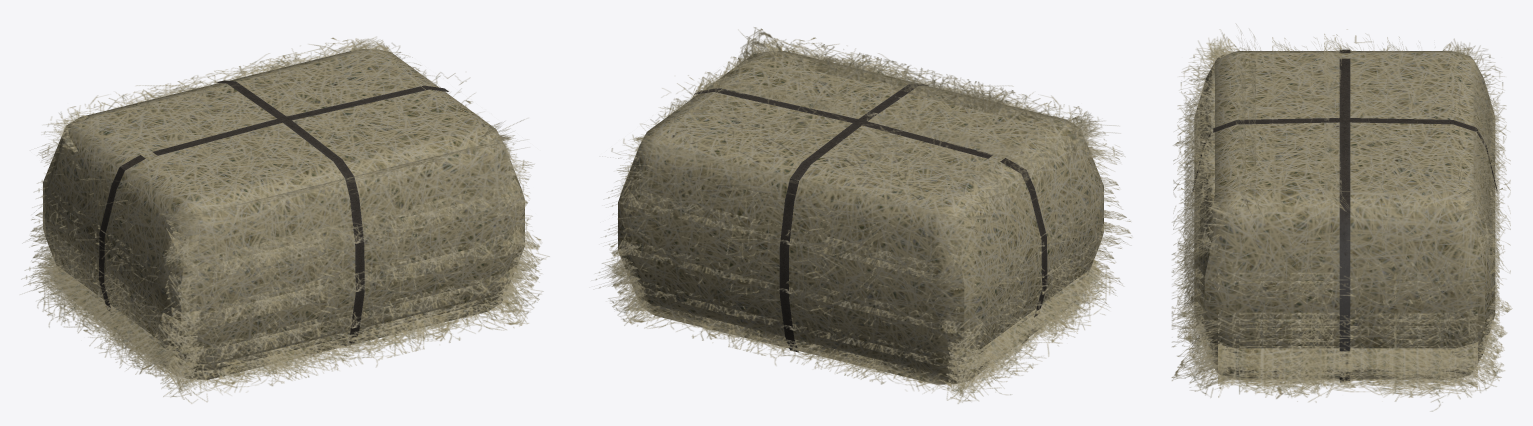
The picture shows the model from 3 angles, left to right: view 1: azimuth 30°, elevation 25°; view 2: azimuth 150°, elevation 25°; view 3: azimuth 270°, elevation 25°; orthographic projection.
Parts seen in each view (by area): view 1: Hay_0, grass_1; view 2: Hay_0, grass_1; view 3: Hay_0, grass_1.
Part boxes in pixels (left/top/right/bottom): Hay_0: left=43, top=49, right=524, bottom=379; grass_1: left=20, top=36, right=549, bottom=403; Hay_0: left=618, top=51, right=1103, bottom=384; grass_1: left=595, top=27, right=1131, bottom=403; Hay_0: left=1192, top=49, right=1497, bottom=382; grass_1: left=1171, top=24, right=1512, bottom=411.
Size of the model in its own units: 1.15 by 0.5569 by 0.8453.
2 materials, 2 textured.
